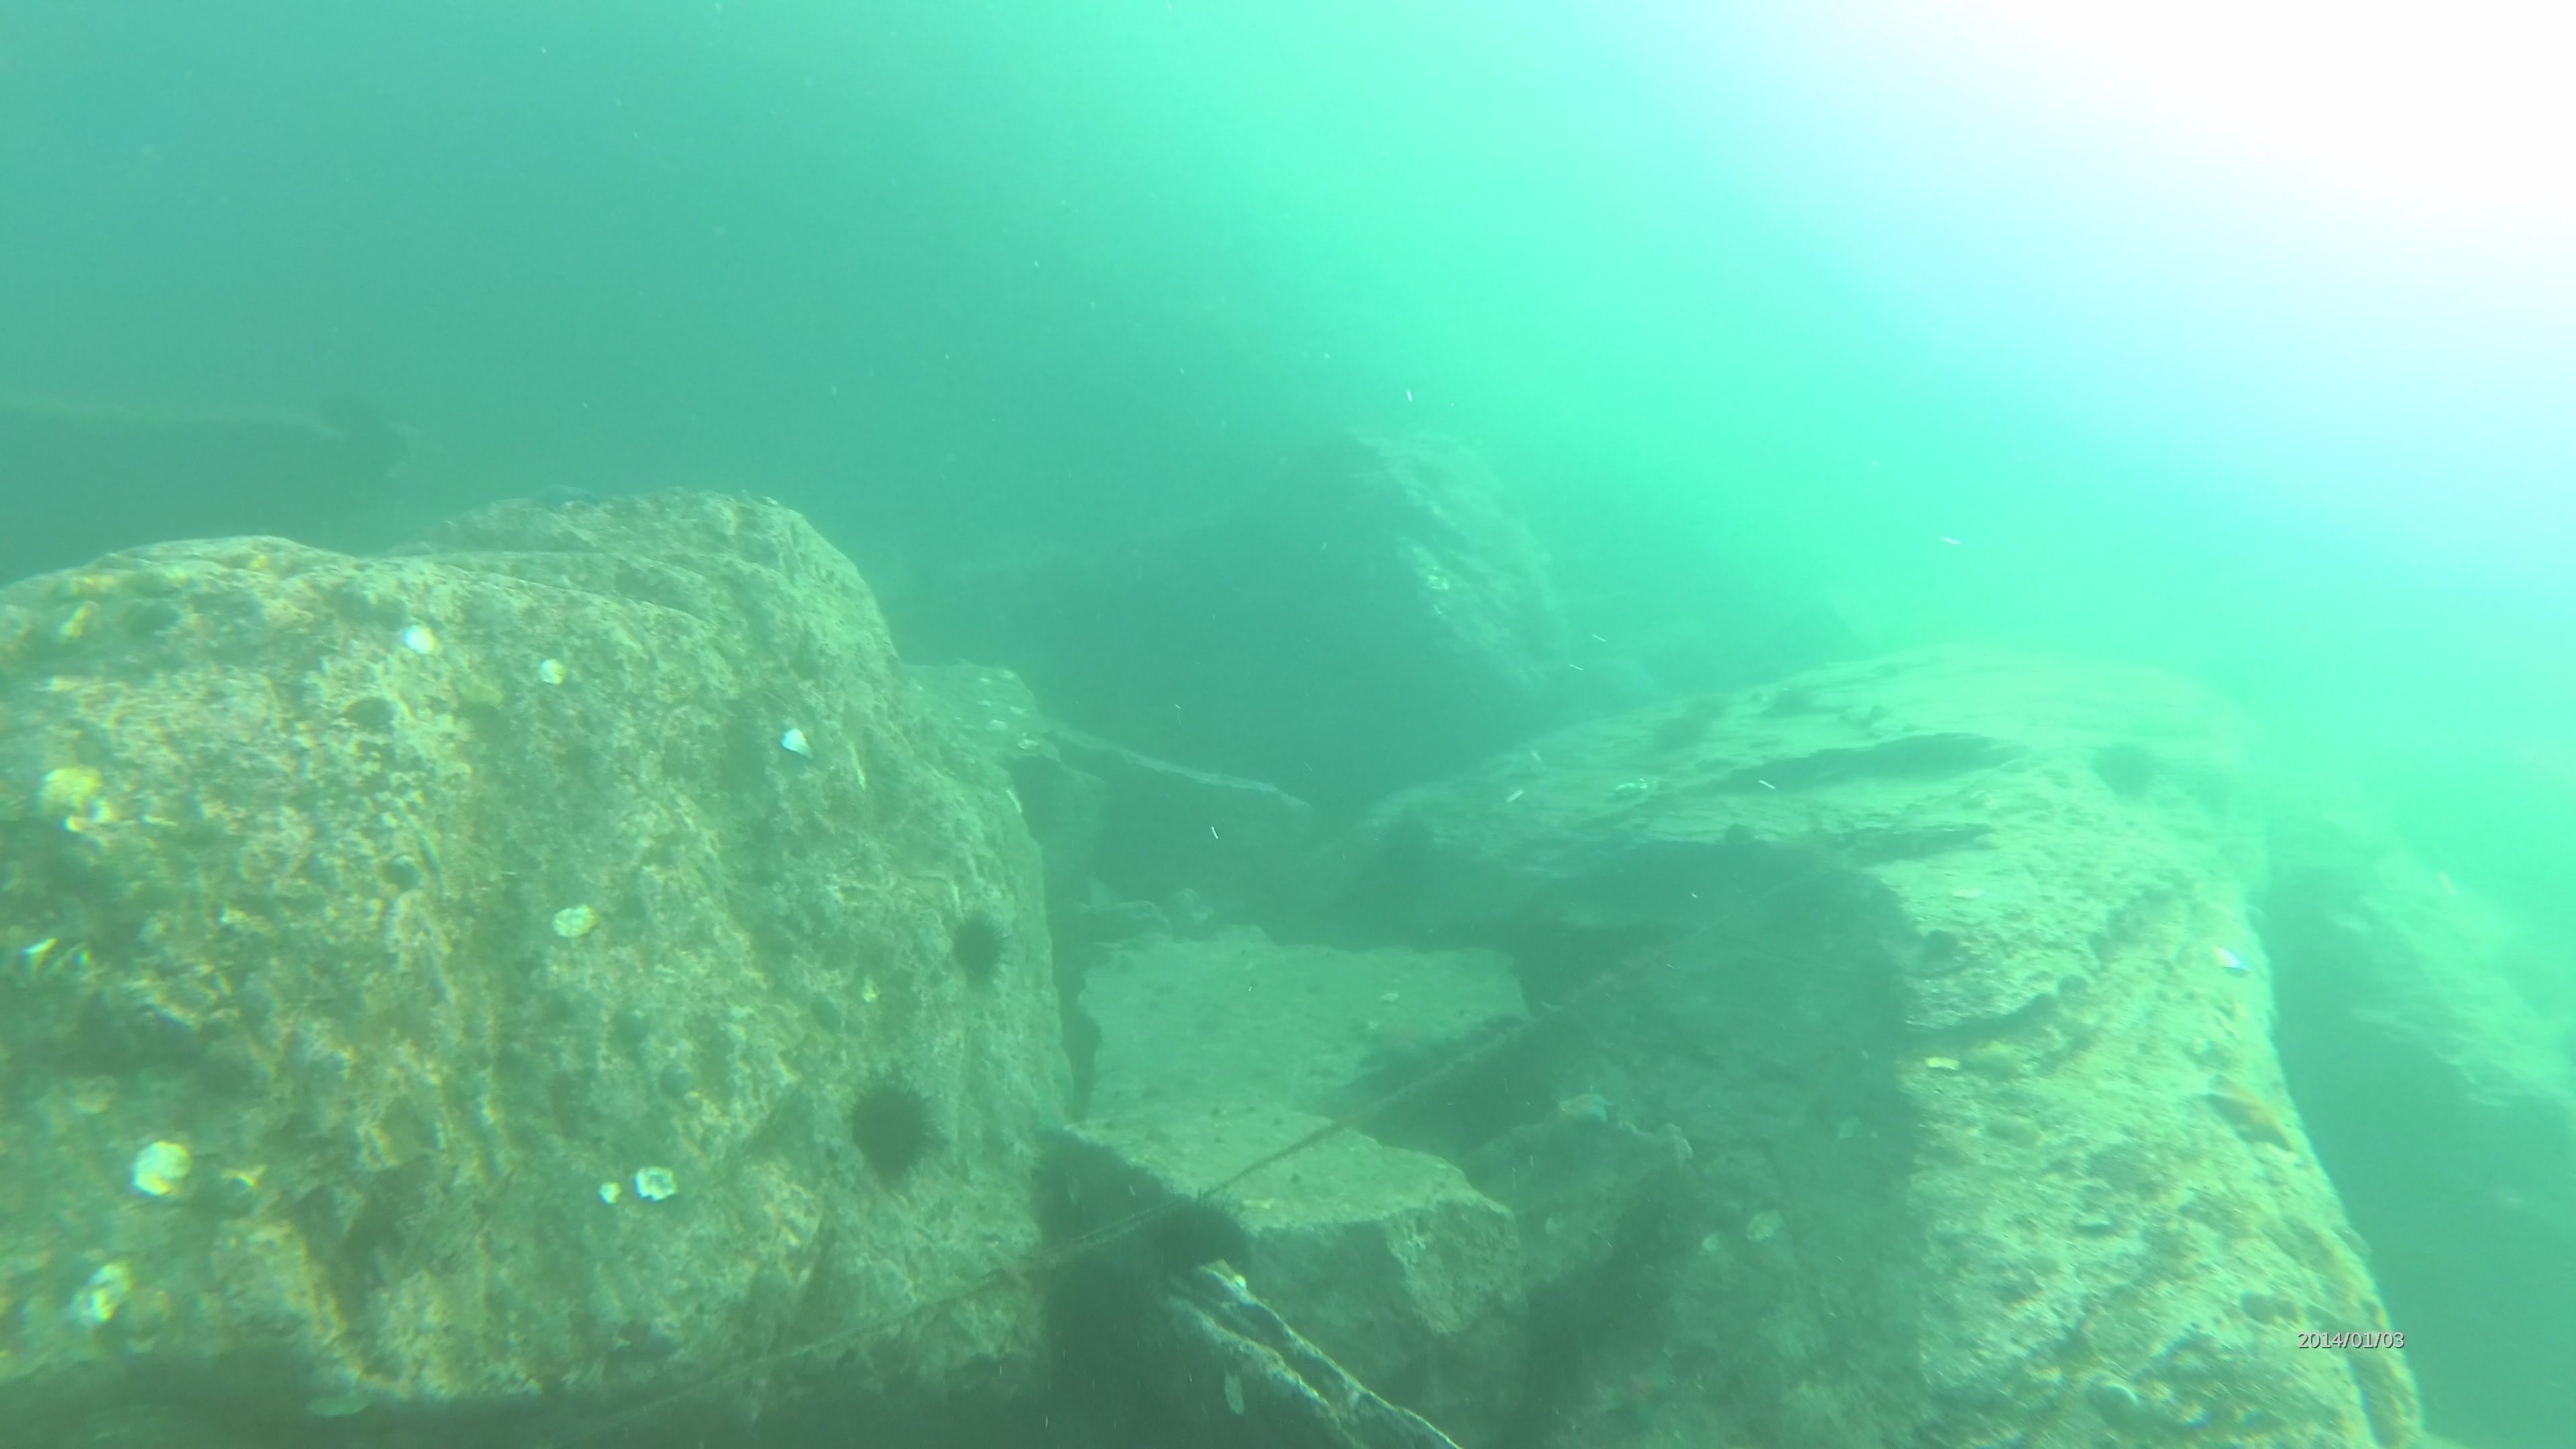echinus: (1129, 1187, 1253, 1299), (839, 1069, 945, 1185), (939, 902, 1017, 994), (2084, 731, 2169, 809)
starfish: (2196, 1074, 2307, 1159)
